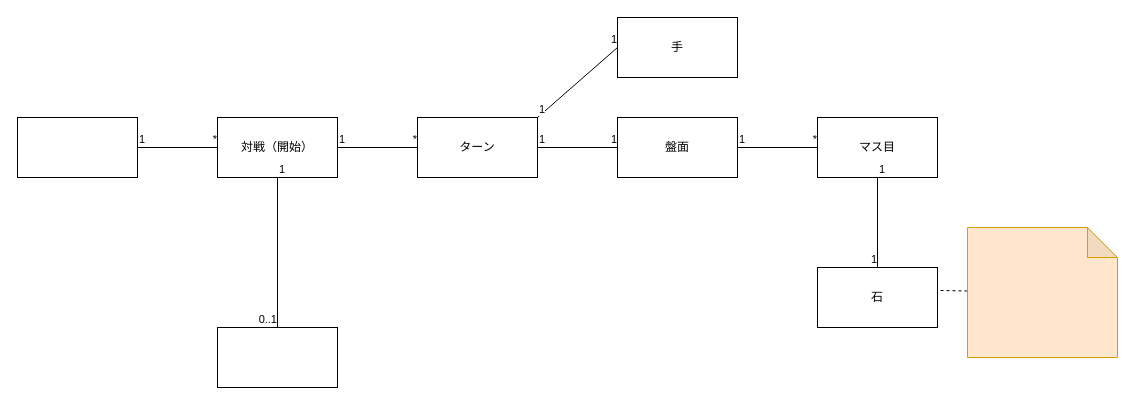
The diagram is 1135 pixels wide and 405 high, and some of its shapes have lost their labels. The shapes that lost their labels are listed below. From the top down, each one's centre as x and y in pixels, then its label:
point 77,147: プレイヤー
point 1042,292: 石の種類 空 黒 白
point 277,357: 対戦結果
